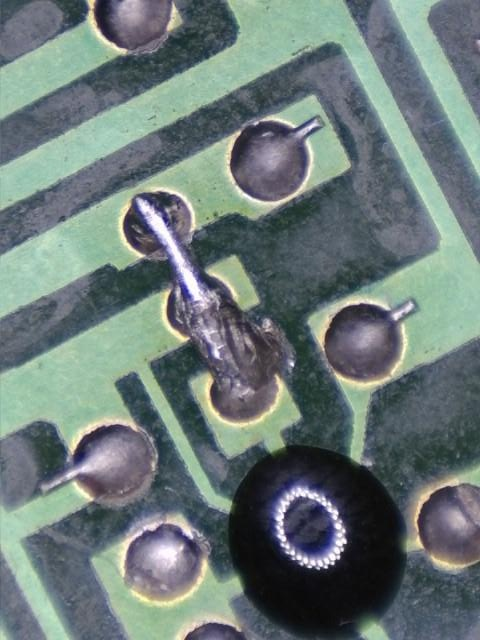pcb_defect: (134, 197, 295, 393)
